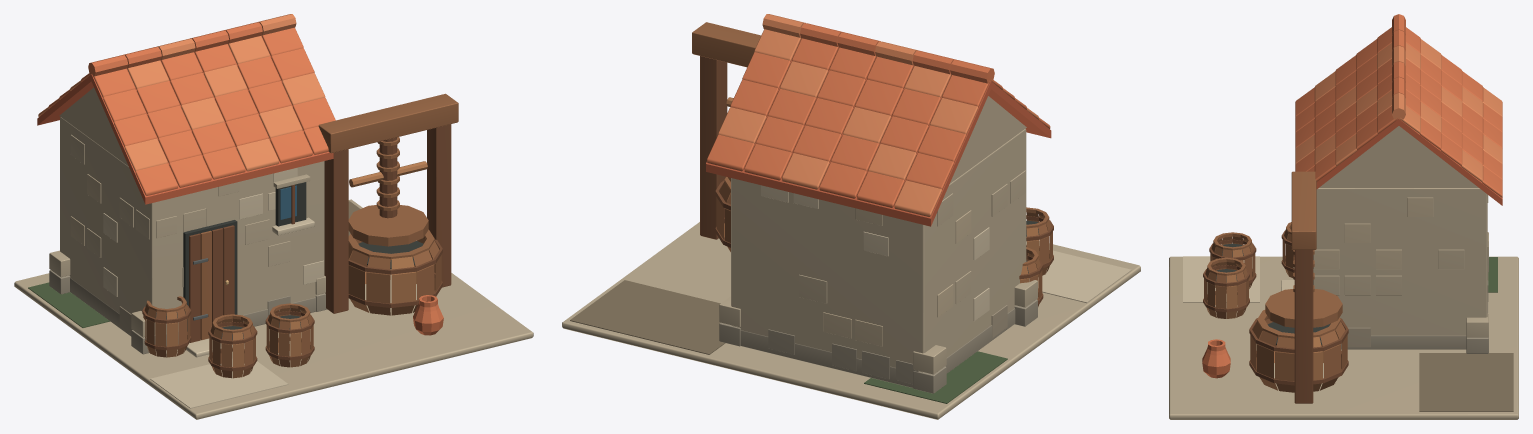
Rendered from winery.glb.
3 renders of one model, left to right at view 1: azimuth 30°, elevation 25°; view 2: azimuth 150°, elevation 25°; view 3: azimuth 270°, elevation 25°, orthographic. The views are drawn at different scales.
Visible parts, largest first — view 1: winery; view 2: winery; view 3: winery.
Boxes of the visible parts, x1,y1,x2,y2 form: winery: (14, 14, 533, 419); winery: (562, 14, 1140, 419); winery: (1169, 14, 1518, 419).
Bounding box in the file's own units: 3 × 2.26 × 2.8.
